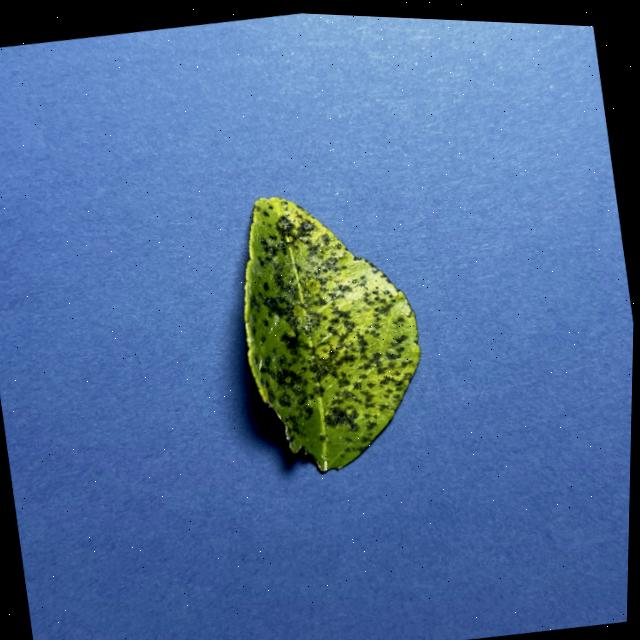sooty_mold: (244, 196, 419, 470)
